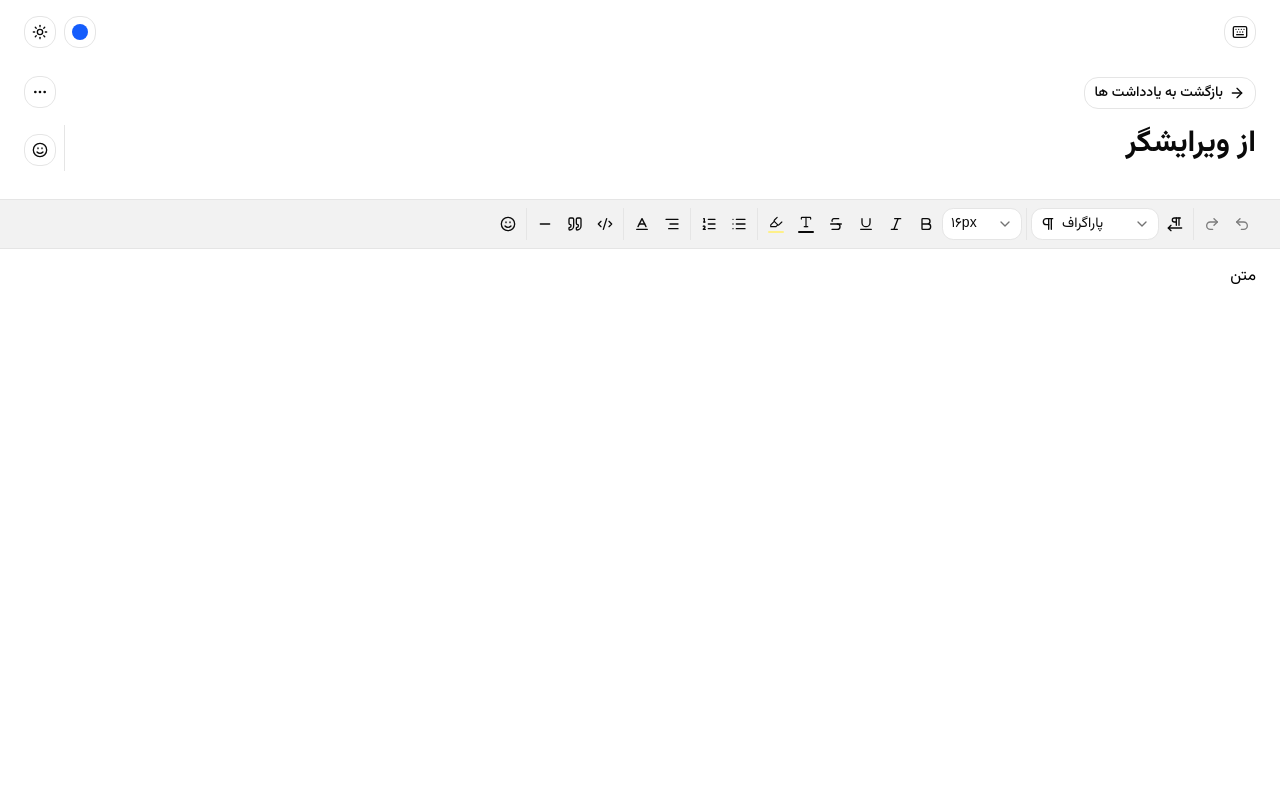
Scenario: deleting from the editor menu › stays in the editor when the confirmation is cancelled
The width and height of the screenshot is (1280, 800).
Check: the field named "متن یادداشت" is shown, box [1230,264,1256,288]
Press the mouse on the button named "گزینه های یادداشت از ویرایشگر" at (40, 92), box [24,76,56,108]
Click the button named "گزینه های یادداشت از ویرایشگر" at (40, 92), box [24,76,56,108]
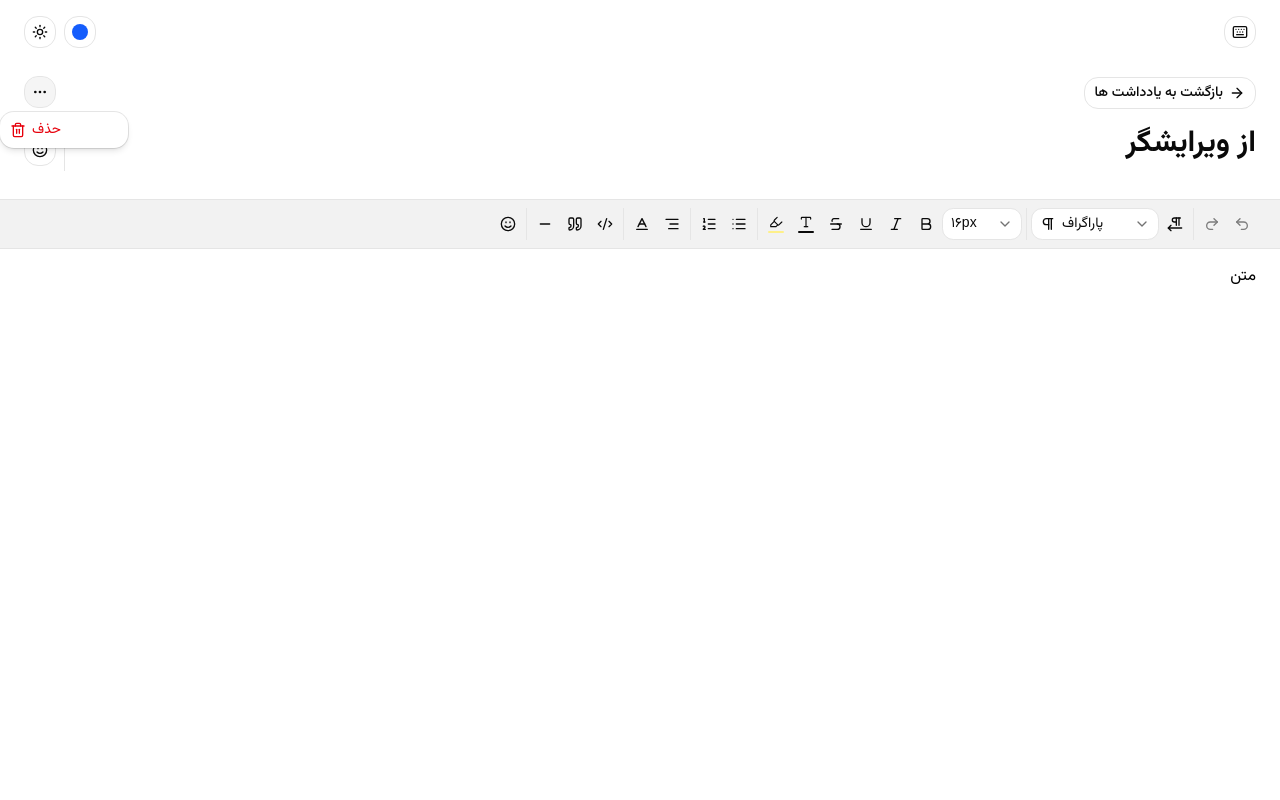
Click the menu item "حذف" at (36, 130), box [10,120,61,140]
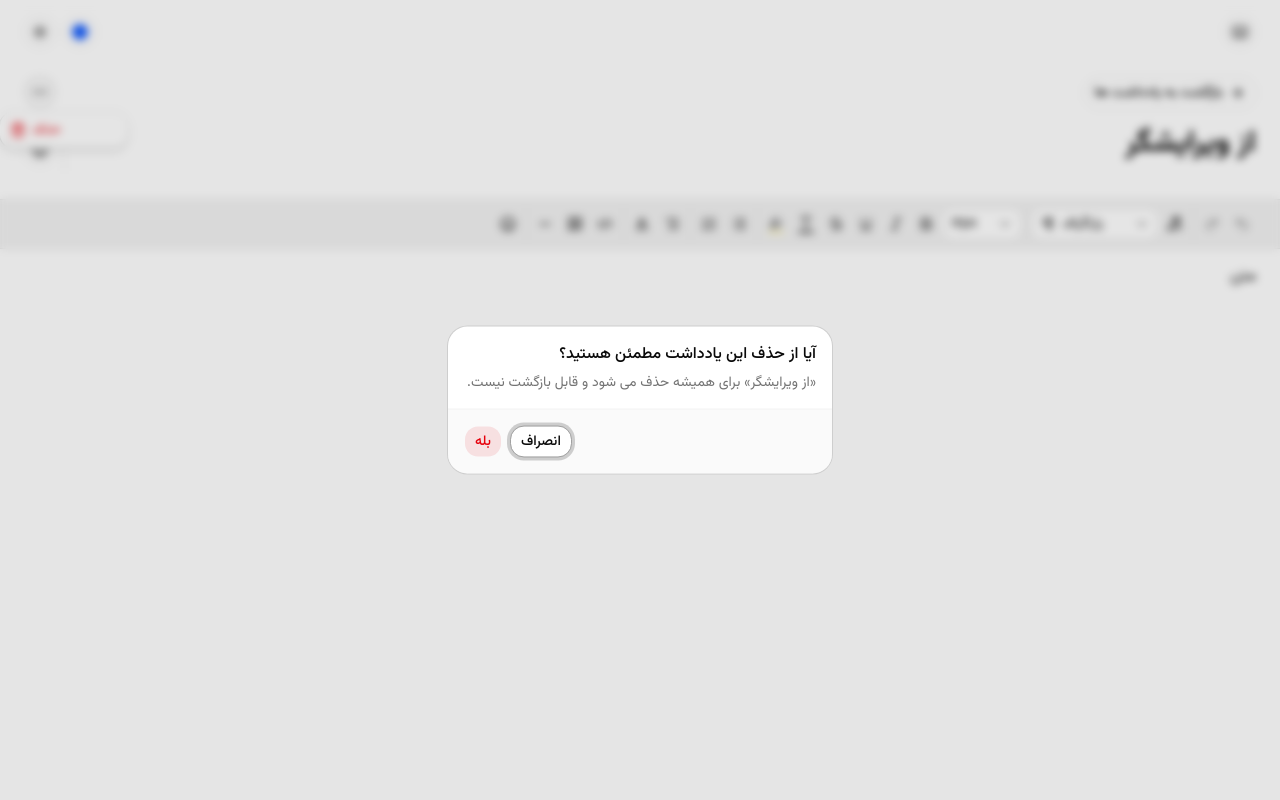
Click the button "انصراف" at (541, 442), box [510,426,572,458]
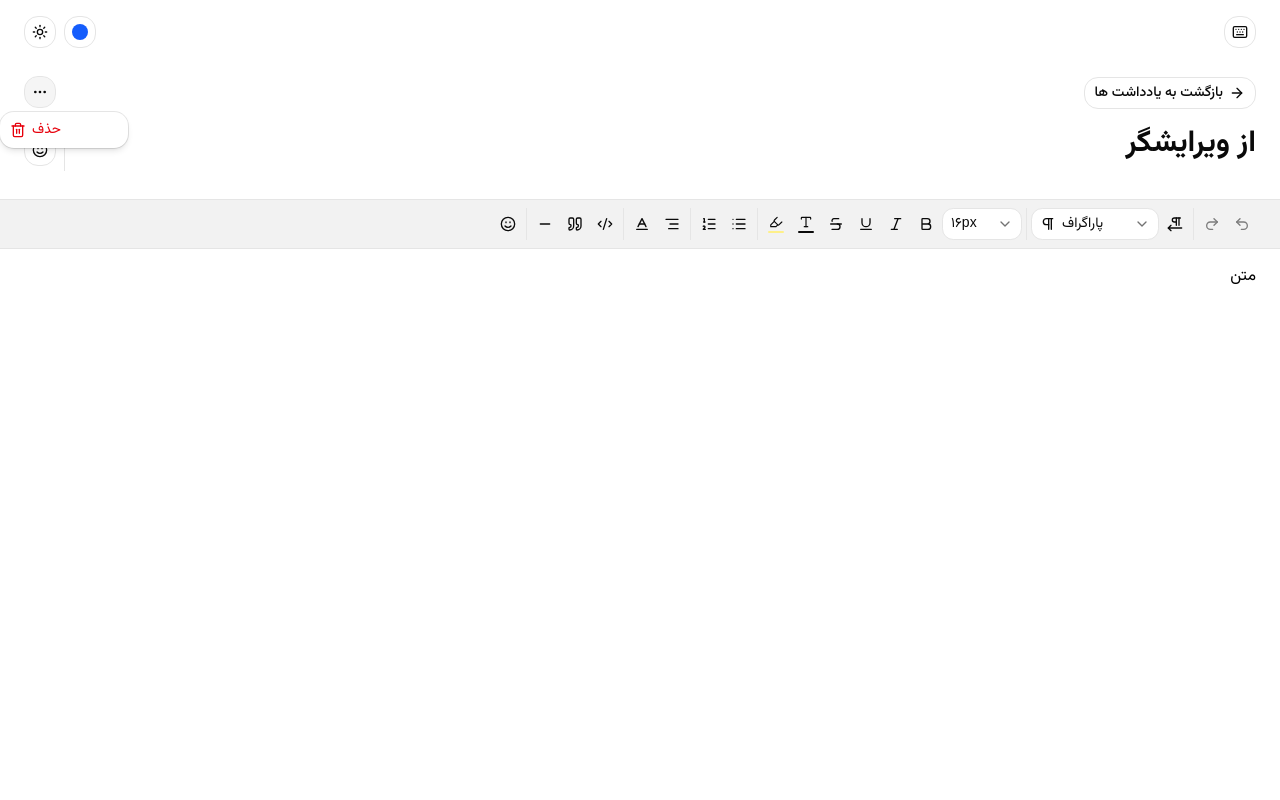
Check: the field named "متن یادداشت" is shown, box [1230,264,1256,288]
Check: the heading "آیا از حذف این یادداشت مطمئن هستید؟" is gone
